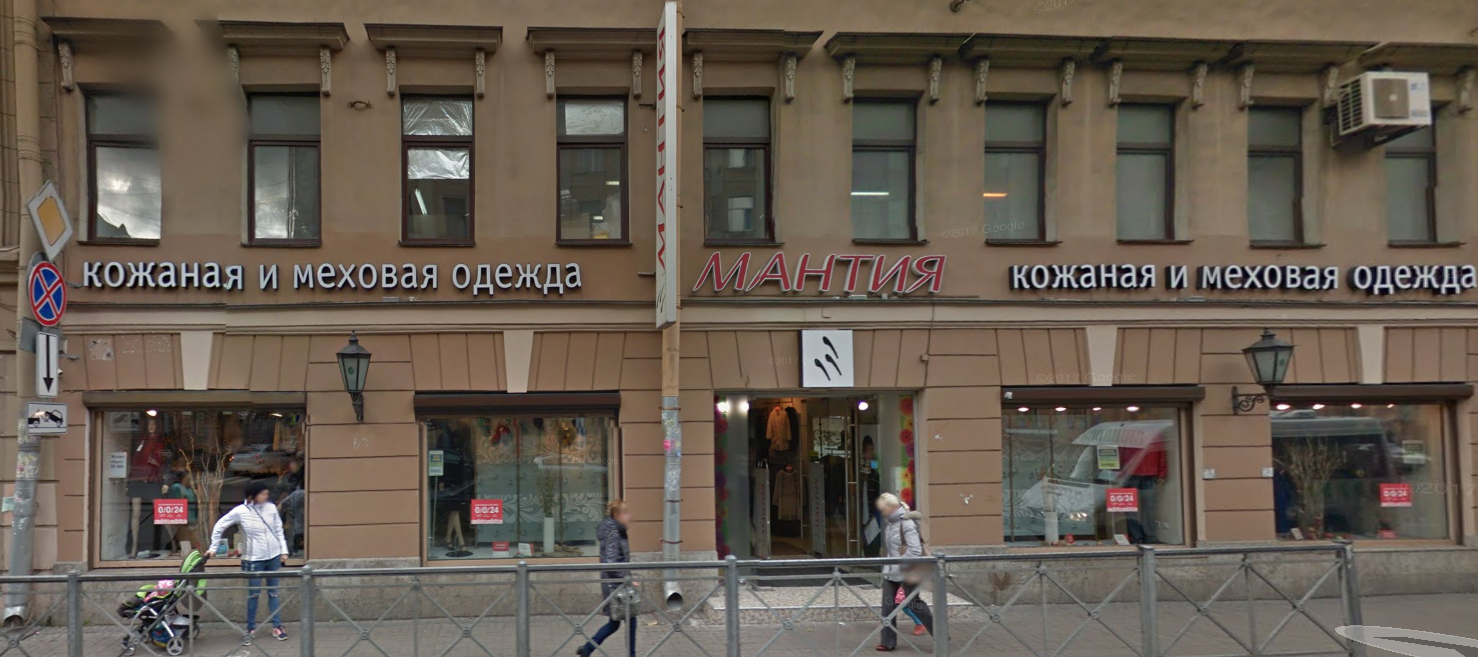cantilever: (636, 6, 685, 336)
signboard: (988, 250, 1478, 308), (82, 252, 584, 304), (689, 242, 951, 298), (800, 323, 855, 389)
window: (81, 391, 306, 563), (413, 384, 622, 561), (999, 387, 1192, 548), (1268, 384, 1457, 541), (239, 83, 323, 253), (391, 82, 474, 249), (79, 83, 162, 242), (694, 83, 775, 242), (982, 87, 1057, 244), (1109, 89, 1183, 246), (851, 87, 923, 243), (560, 91, 621, 253), (1249, 93, 1311, 248), (1384, 133, 1456, 250)
